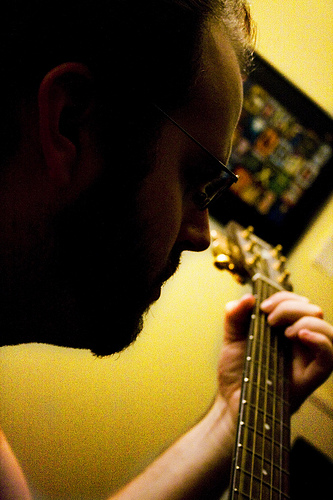guitar: (206, 221, 293, 500)
